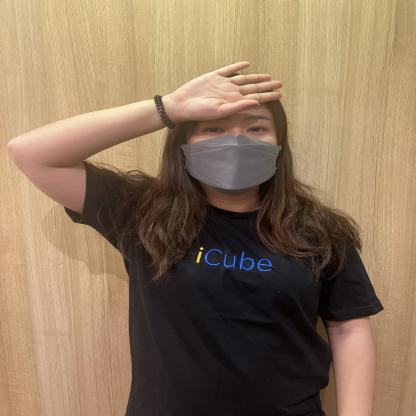Sick: (124, 42, 302, 130)
